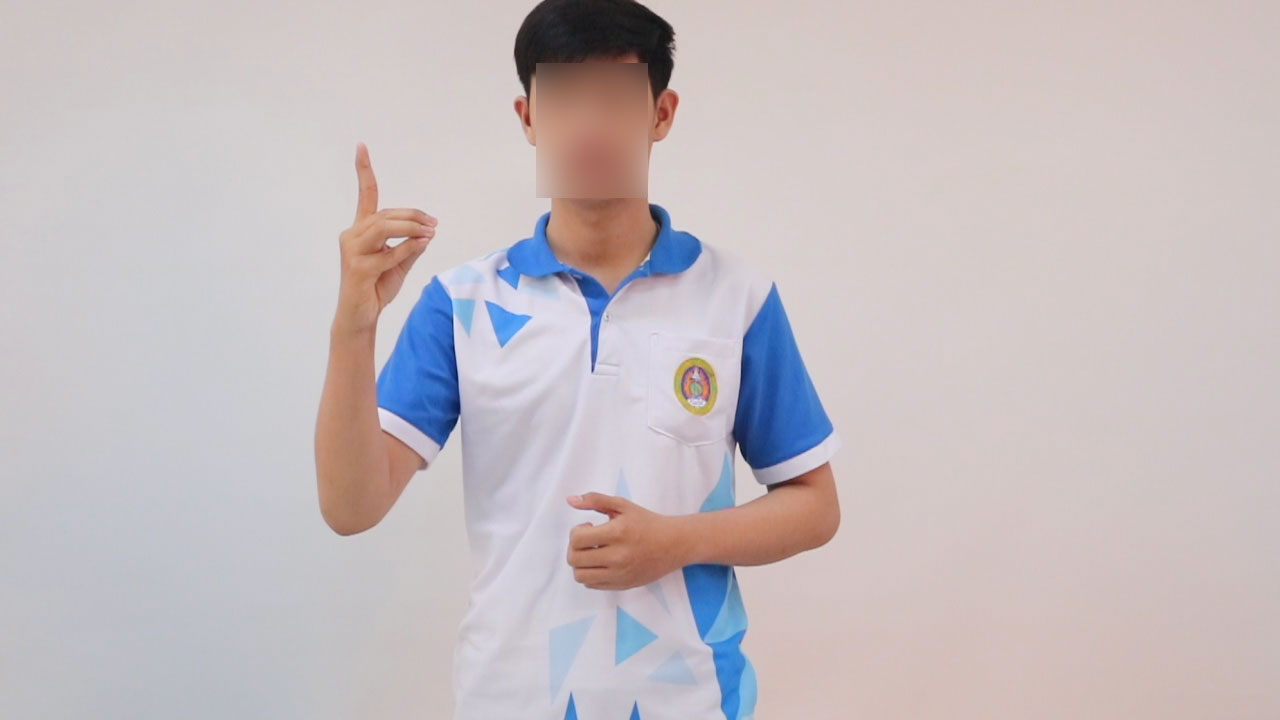dor: (324, 134, 445, 331)
